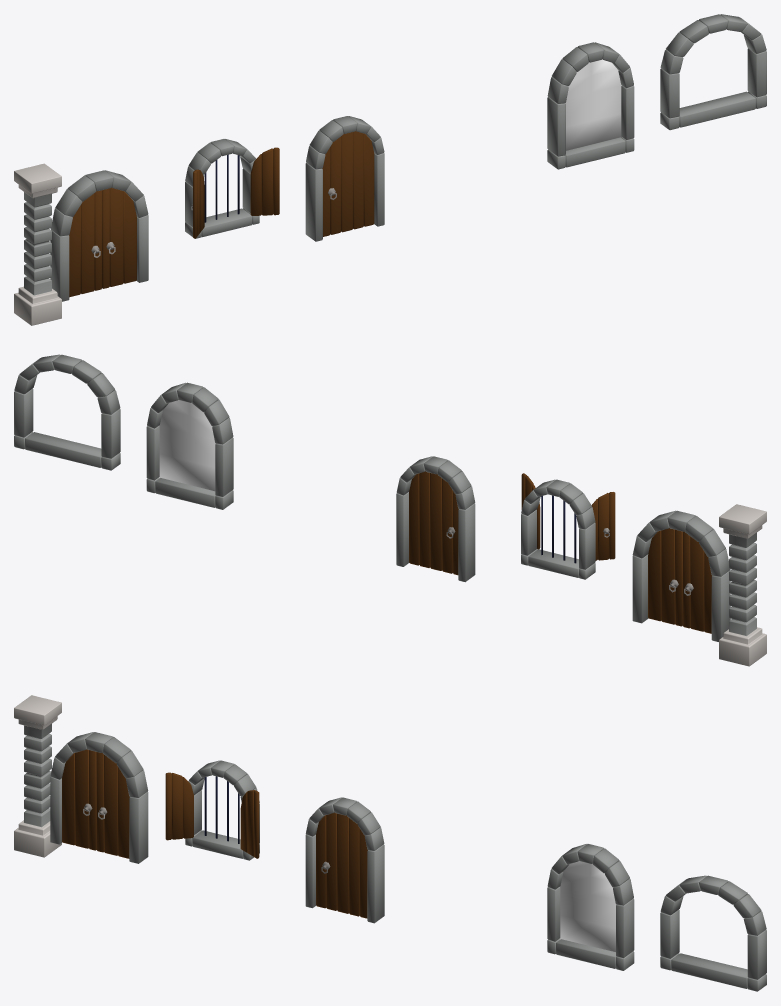
The model's file is Doors_Windows.glb.
3 views of the same model, one above another, from view 1: azimuth 30°, elevation 25°; view 2: azimuth 150°, elevation 25°; view 3: azimuth 330°, elevation 25° (orthographic).
Visible parts, largest first — view 1: WindowBigBorder, PillarSquare, WindowBorder.001, DoorSimpleRounded, Door2RoundedBorder.001, WindowBorder.002, DoorSimpleRoundedBorder, Door2RoundedRight, WindowBorder, Door2RoundedLeft, WindowLeft, WindowRight (+1 smaller); view 2: WindowBigBorder, PillarSquare, WindowBorder.001, Door2RoundedBorder.001, DoorSimpleRounded, WindowBorder.002, WindowBorder, DoorSimpleRoundedBorder, Door2RoundedRight, Door2RoundedLeft, WindowRight, WindowIronProtection; view 3: WindowBigBorder, WindowBorder.001, PillarSquare, DoorSimpleRounded, Door2RoundedBorder.001, WindowBorder.002, DoorSimpleRoundedBorder, Door2RoundedLeft, Door2RoundedRight, WindowBorder, WindowRight, WindowLeft (+1 smaller).
Part boxes in pixels (x1,y1,x2,y2): WindowBigBorder: [660, 14, 766, 130]; PillarSquare: [14, 163, 61, 325]; WindowBorder.001: [547, 42, 634, 169]; DoorSimpleRounded: [322, 131, 374, 236]; Door2RoundedBorder.001: [50, 170, 148, 301]; WindowBorder.002: [565, 59, 621, 150]; DoorSimpleRoundedBorder: [305, 116, 384, 241]; Door2RoundedRight: [102, 187, 136, 288]; WindowBorder: [185, 139, 259, 238]; Door2RoundedLeft: [69, 190, 102, 297]; WindowLeft: [250, 147, 279, 215]; WindowRight: [191, 169, 204, 238]; WindowBigBorder: [14, 354, 120, 470]; PillarSquare: [719, 504, 766, 666]; WindowBorder.001: [146, 382, 233, 509]; Door2RoundedBorder.001: [632, 510, 730, 641]; DoorSimpleRounded: [409, 471, 458, 575]; WindowBorder.002: [159, 400, 215, 491]; WindowBorder: [521, 479, 595, 579]; DoorSimpleRoundedBorder: [396, 456, 475, 582]; Door2RoundedRight: [648, 528, 682, 626]; Door2RoundedLeft: [683, 531, 711, 633]; WindowRight: [591, 492, 615, 560]; WindowIronProtection: [541, 495, 576, 563]; WindowBigBorder: [660, 875, 766, 991]; WindowBorder.001: [547, 844, 634, 970]; PillarSquare: [14, 695, 61, 857]; DoorSimpleRounded: [316, 812, 367, 918]; Door2RoundedBorder.001: [50, 732, 148, 863]; WindowBorder.002: [559, 861, 616, 951]; DoorSimpleRoundedBorder: [305, 797, 384, 923]; Door2RoundedLeft: [62, 749, 96, 850]; Door2RoundedRight: [96, 752, 129, 858]; WindowBorder: [185, 760, 259, 860]; WindowRight: [165, 772, 193, 840]; WindowLeft: [240, 790, 259, 858].
Size of the model in its own units: 18.08 by 3.33 by 0.9941.
